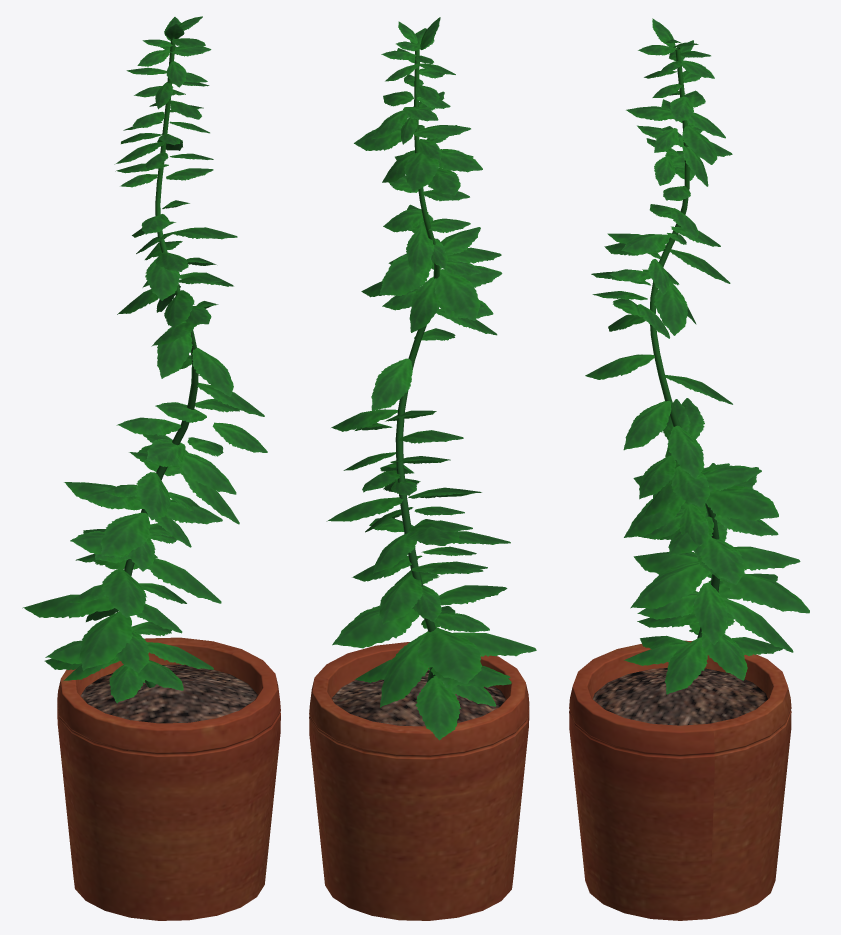
The model's file is plant444.fbx.
The picture shows the model from 3 angles, left to right: view 1: azimuth 30°, elevation 25°; view 2: azimuth 150°, elevation 25°; view 3: azimuth 270°, elevation 25°; orthographic projection.
Parts seen in each view (by area): view 1: plant53; view 2: plant53; view 3: plant53.
Boxes of the visible parts, box(x1,y1,x2,y2) form: plant53: box(22, 16, 280, 920); plant53: box(309, 17, 536, 920); plant53: box(569, 18, 809, 920).
Size of the model in its own units: 27.14 by 103 by 28.1.
